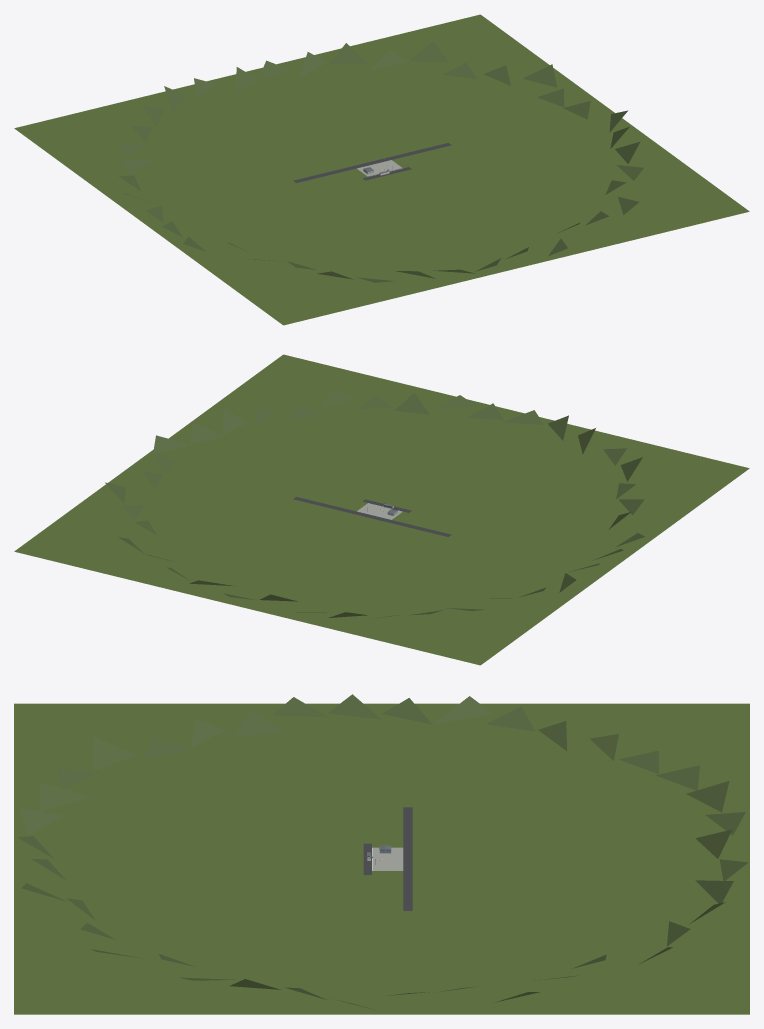
The model's file is sola.glb.
3 views of the same model, one above another, from view 1: azimuth 30°, elevation 25°; view 2: azimuth 150°, elevation 25°; view 3: azimuth 270°, elevation 25° (orthographic). The views are drawn at different scales.
Parts seen in each view (by area): view 1: SolaApron; view 2: SolaApron; view 3: SolaApron.
Boxes of the visible parts, x1,y1,x2,y2 form: SolaApron: [14, 14, 749, 325]; SolaApron: [14, 354, 749, 665]; SolaApron: [14, 694, 749, 1014].
Size of the model in its own units: 2415 by 70.09 by 2400.
Materials: 3 (1 with a texture image).
